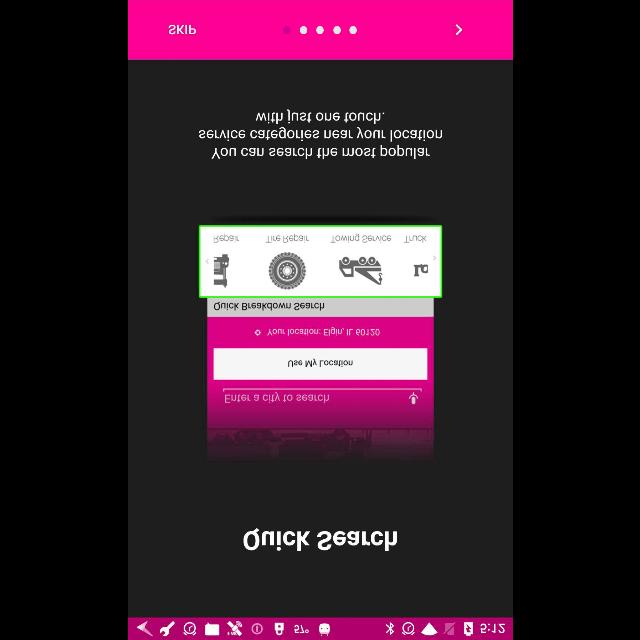icon: (454, 24, 462, 36)
image: (198, 225, 442, 462)
pageindicator: (282, 26, 356, 34)
text: (198, 110, 442, 158), (243, 528, 397, 550), (168, 26, 196, 34)
uppertaskbar: (128, 617, 512, 639)
